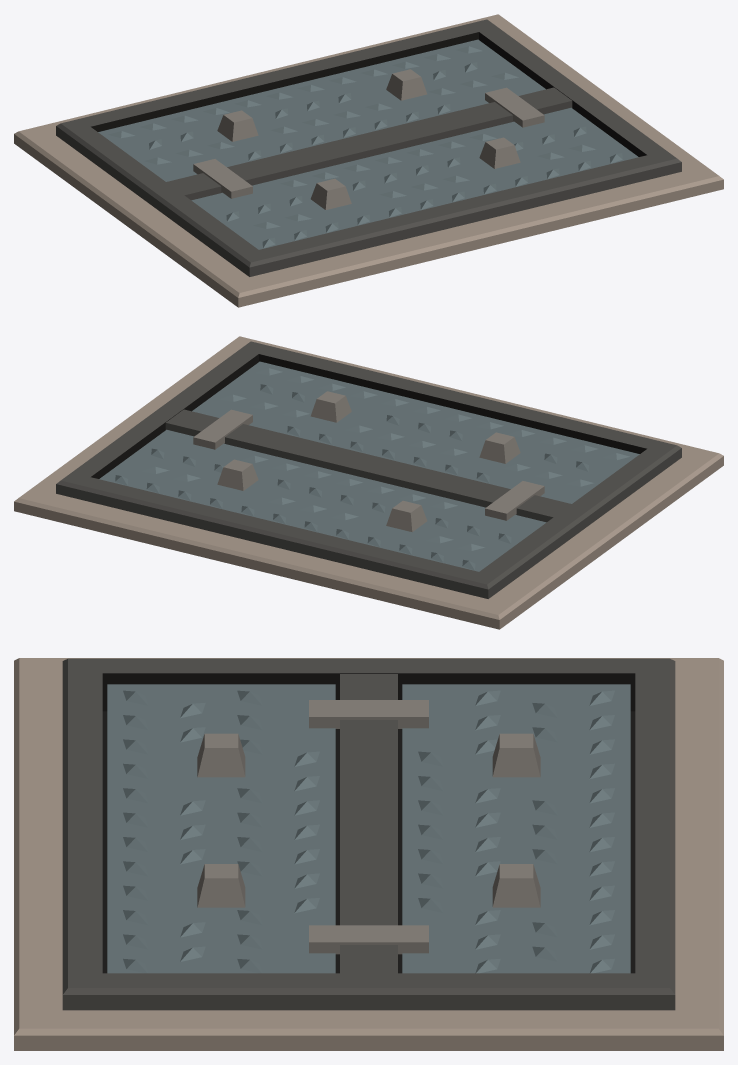
File: sidewalk-cellar-hatch-c717a8.glb
The picture shows the model from 3 angles, top to bottom: view 1: azimuth 30°, elevation 25°; view 2: azimuth 150°, elevation 25°; view 3: azimuth 270°, elevation 25°; orthographic projection. The views are drawn at different scales.
Visible parts, largest first — view 1: hatch-frame, leaf-front-plate, leaf-back-plate; view 2: hatch-frame, leaf-back-plate, leaf-front-plate; view 3: hatch-frame, leaf-back-plate, leaf-front-plate.
Boxes of the visible parts, <box> form: hatch-frame: <box>14,14,723,307</box>; leaf-front-plate: <box>191,101,638,249</box>; leaf-back-plate: <box>98,39,545,181</box>; hatch-frame: <box>14,336,723,629</box>; leaf-back-plate: <box>99,423,546,571</box>; leaf-front-plate: <box>192,361,639,503</box>; hatch-frame: <box>14,658,723,1050</box>; leaf-back-plate: <box>369,684,630,973</box>; leaf-front-plate: <box>107,684,368,973</box>.
Bounding box in the file's own units: 2 × 0.143 × 1.6.
